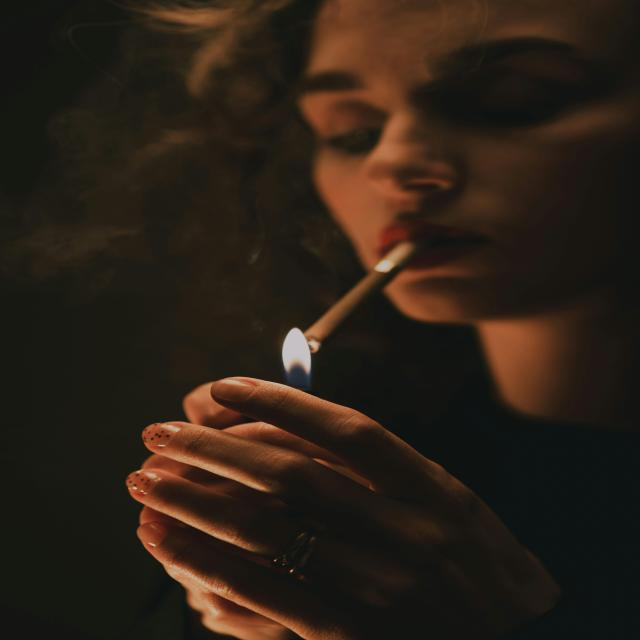fire: (284, 329, 311, 386)
